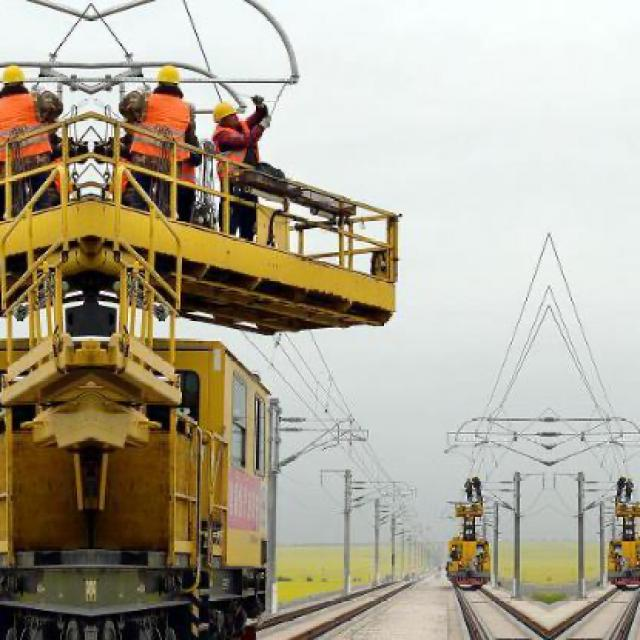helmet: (148, 64, 185, 98), (204, 98, 242, 130), (1, 65, 32, 100)
